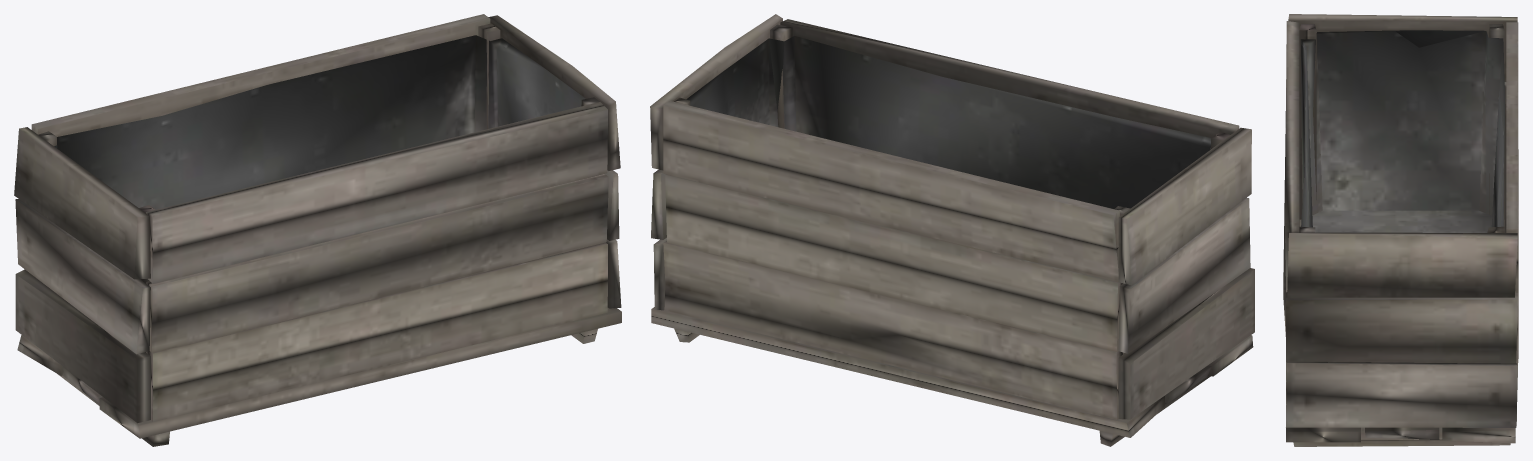
Rendered from planter_box_01.glb.
3 views of the same model, side by side, from view 1: azimuth 30°, elevation 25°; view 2: azimuth 150°, elevation 25°; view 3: azimuth 270°, elevation 25° (orthographic). The views are drawn at different scales.
Visible parts, largest first — view 1: planter_box_01; view 2: planter_box_01; view 3: planter_box_01.
Boxes of the visible parts, x1=… form: planter_box_01: x1=14, y1=14, x2=621, y2=446; planter_box_01: x1=650, y1=14, x2=1254, y2=446; planter_box_01: x1=1283, y1=14, x2=1518, y2=446.
Size of the model in its own units: 0.9036 by 0.4249 by 0.4068.
Materials: 1 (1 with a texture image).
